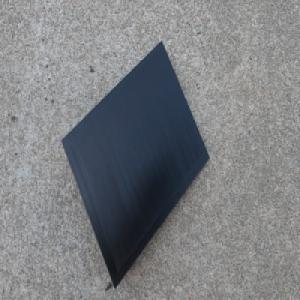PlasticPart: (59, 38, 210, 291)
